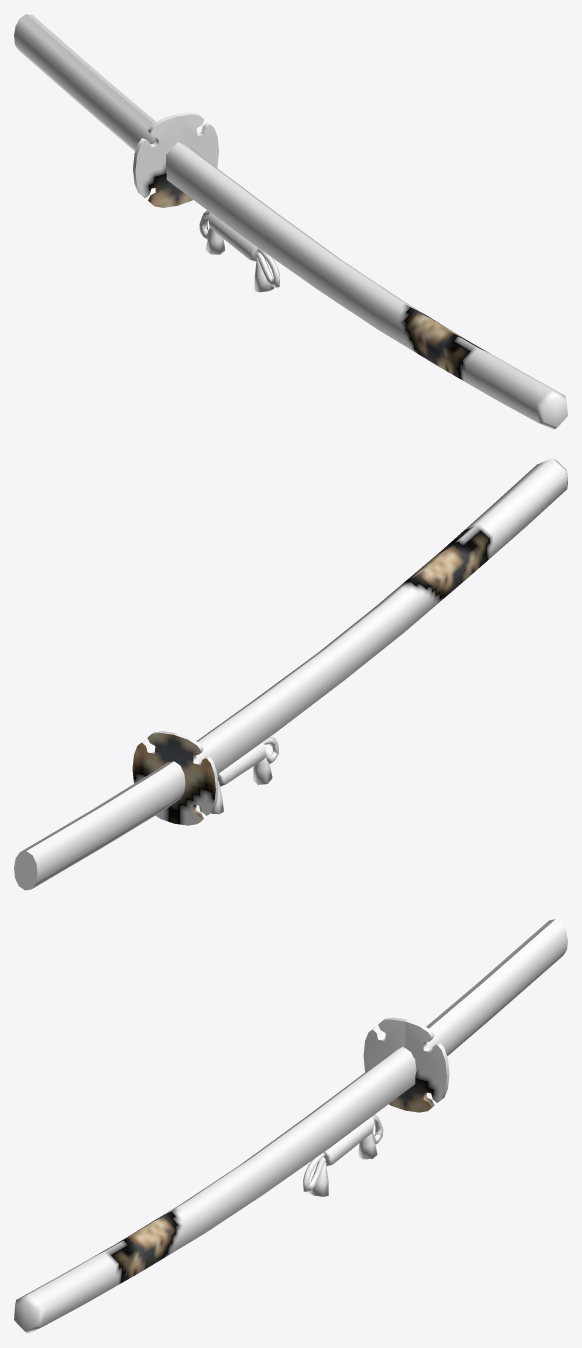
Rendered from shotogatana_in_sheath.obj.
3 views of the same model, one above another, from view 1: azimuth 30°, elevation 25°; view 2: azimuth 150°, elevation 25°; view 3: azimuth 330°, elevation 25° (orthographic).
Parts seen in each view (by area): view 1: Katana&Siya; view 2: Katana&Siya; view 3: Katana&Siya.
Boxes of the visible parts, x1,y1,x2,y2 form: Katana&Siya: [14, 14, 567, 429]; Katana&Siya: [14, 458, 567, 890]; Katana&Siya: [14, 919, 567, 1333].
Size of the model in its own units: 0.2833 by 0.3661 by 3.13.
